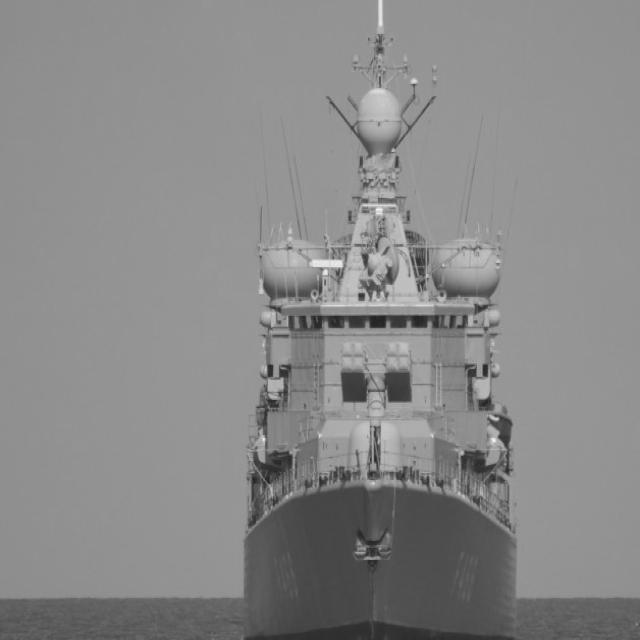Fragata: (242, 1, 519, 640)
